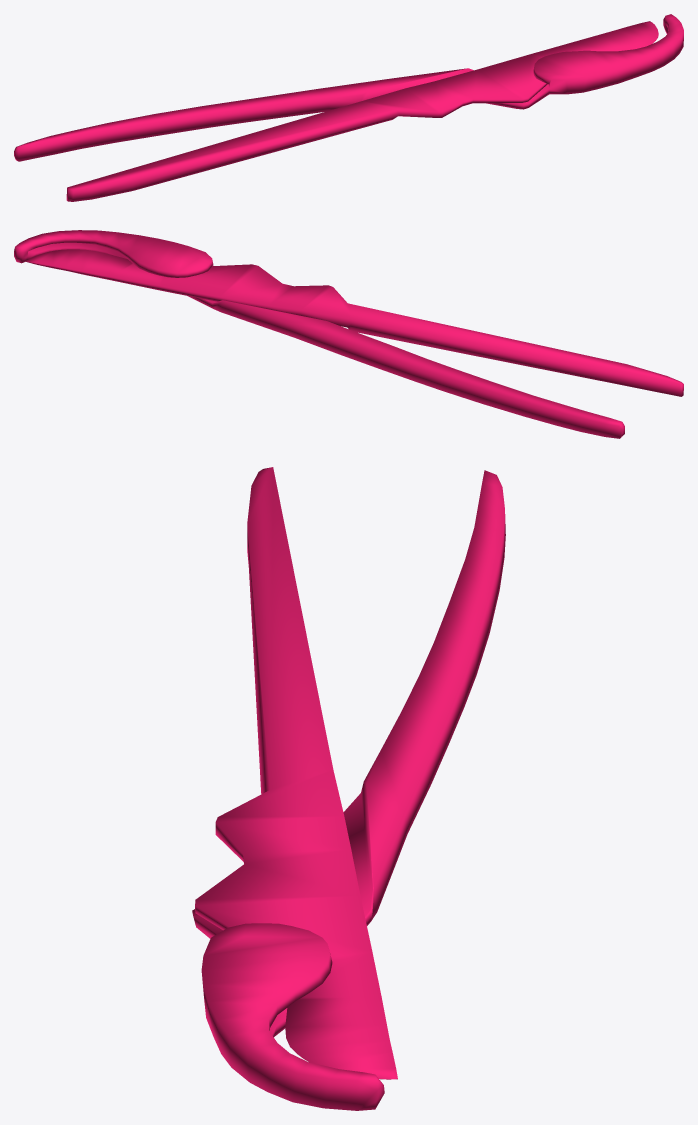
Rendered from SM_Morgue_Scissors_1.FBX.
The picture shows the model from 3 angles, top to bottom: view 1: azimuth 30°, elevation 25°; view 2: azimuth 150°, elevation 25°; view 3: azimuth 270°, elevation 25°; orthographic projection. The views are drawn at different scales.
Visible parts, largest first — view 1: Morgue_Scissors_1_element_2, Morgue_Scissors_1_element_1; view 2: Morgue_Scissors_1_element_2, Morgue_Scissors_1_element_1; view 3: Morgue_Scissors_1_element_2, Morgue_Scissors_1_element_1.
Boxes of the visible parts, <box> form: Morgue_Scissors_1_element_2: <box>66,21,658,201</box>; Morgue_Scissors_1_element_1: <box>14,14,683,161</box>; Morgue_Scissors_1_element_2: <box>26,249,683,396</box>; Morgue_Scissors_1_element_1: <box>14,230,624,438</box>; Morgue_Scissors_1_element_2: <box>195,467,397,1079</box>; Morgue_Scissors_1_element_1: <box>192,470,505,1110</box>.
Bounding box in the file's own units: 24.21 × 0.5683 × 5.2.
